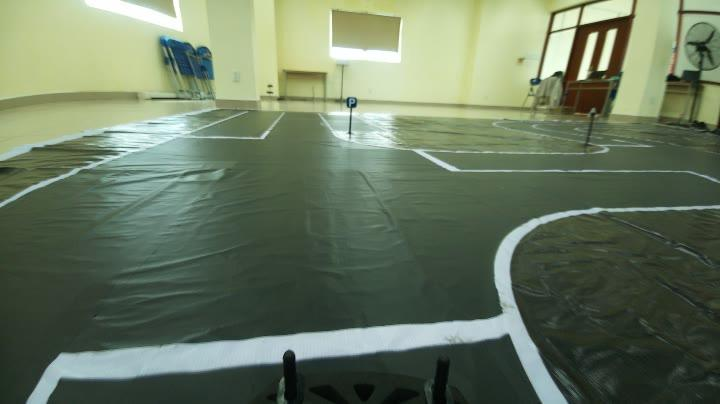parking: (340, 94, 360, 115)
